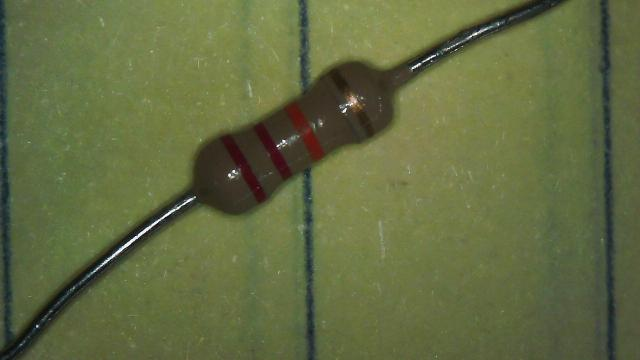gold: (329, 66, 374, 136)
orange: (286, 102, 324, 160)
red: (222, 134, 266, 202), (257, 127, 290, 178)
resistor: (165, 28, 432, 249)
